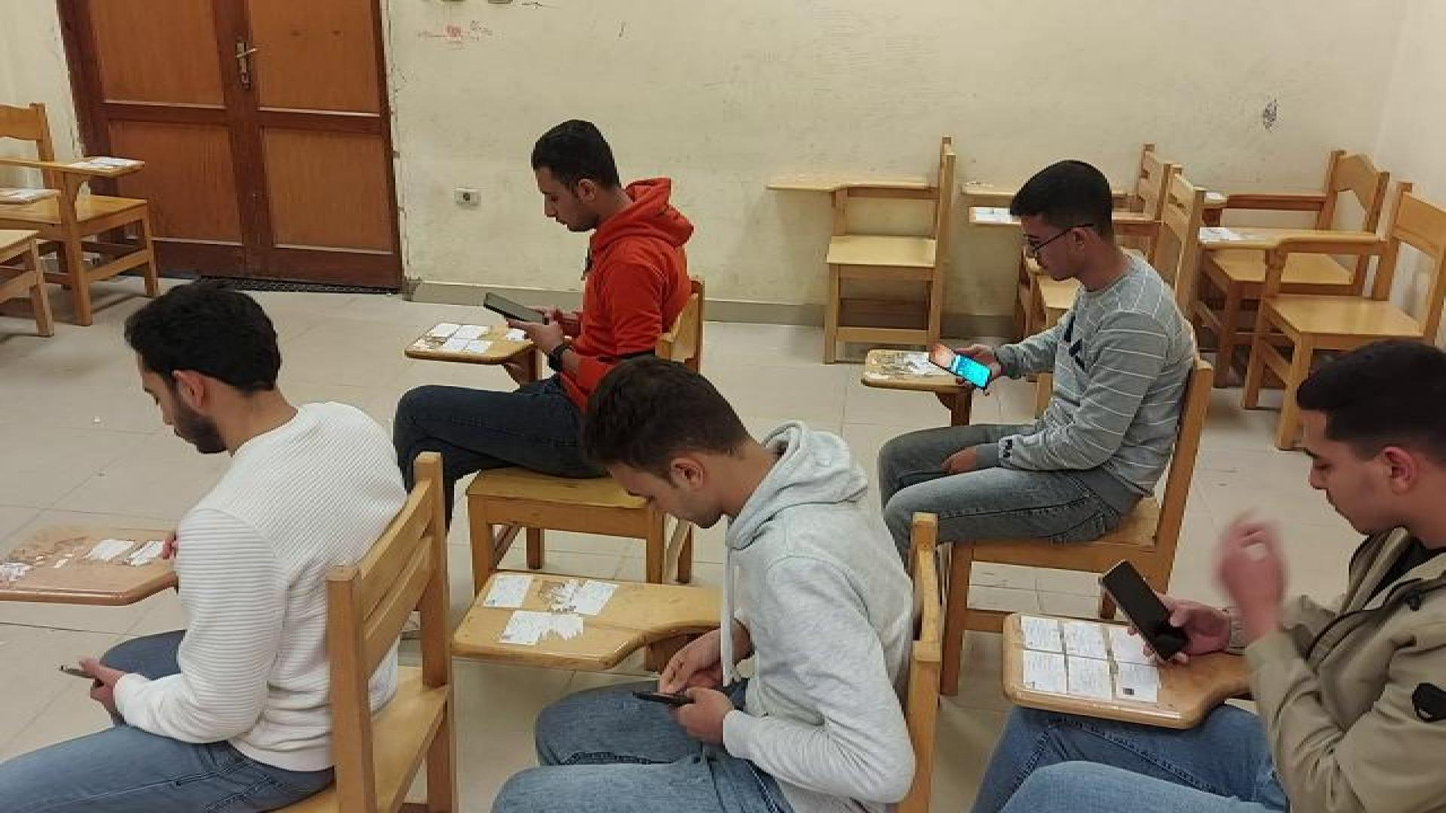phone: (1097, 558, 1196, 664), (478, 282, 555, 333), (923, 338, 995, 390), (628, 681, 696, 713), (53, 656, 103, 694)
